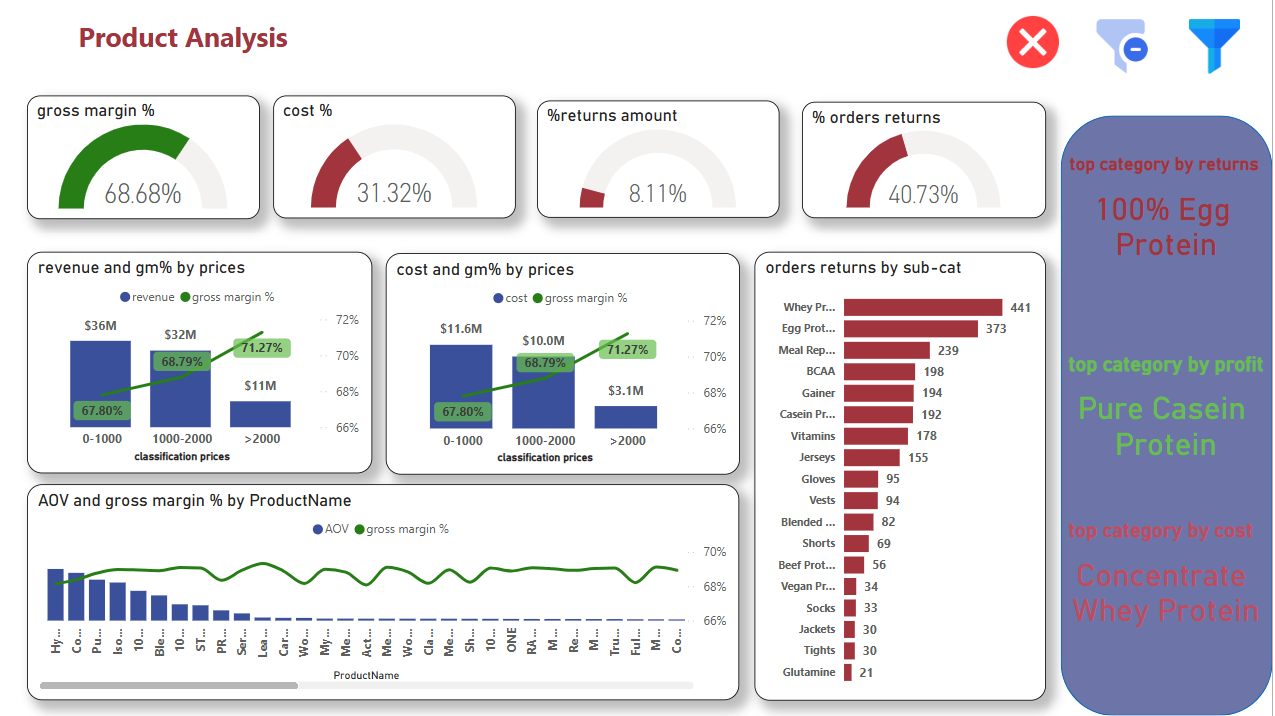

The dashboard page shown, as its layout file describes it:
{"tool":"powerbi","page":{"name":"product analysis","canvas":[1280,720],"ordinal":4},"visuals":[{"type":"gauge","fields":{"Y":["calculations.gross margin %"]},"box":[39.9,102.1,231.6,123.3],"z":0},{"type":"gauge","fields":{"Y":["calculations.cost %"]},"box":[285.2,102.1,241.6,122],"z":1000},{"type":"gauge","fields":{"Y":["returns calculations.% orders returns"]},"box":[812,108.3,242.8,115.8],"z":2000},{"type":"gauge","fields":{"Y":["returns calculations.%returns amount"]},"box":[548,107.5,241.6,117.1],"z":3000},{"type":"shape","box":[1069.4,121.6,210.9,597.9],"z":4000},{"type":"lineStackedColumnComboChart","title":"revenue and gm% by  prices","fields":{"Category":["sales details.classification prices"],"Y":["calculations.revenue"],"Y2":["calculations.gross margin %"]},"box":[39.9,257.8,343.7,220.4],"z":5000},{"type":"lineStackedColumnComboChart","title":"cost and gm% by  prices","fields":{"Category":["sales details.classification prices"],"Y2":["calculations.gross margin %"],"Y":["calculations.cost"]},"box":[397.3,259,352.4,220.4],"z":6000},{"type":"barChart","title":"orders returns by  sub-cat","fields":{"Y":["returns calculations.# orders returns"],"Category":["product.SubcategoryName"]},"box":[764.7,257.8,290.2,447.1],"z":7000},{"type":"lineStackedColumnComboChart","fields":{"Category":["product.ProductName"],"Y":["calculations.AOV"],"Y2":["calculations.gross margin %"]},"box":[39.9,489.4,709.9,215.5],"z":8000},{"type":"card","title":"top category by returns","fields":{"Values":["Min(product.ProductName)"]},"box":[1073.1,158.8,203.5,120.3],"z":12000},{"type":"card","title":"top category by profit","fields":{"Values":["Min(product.ProductName)"]},"box":[1072.8,357.1,204.5,120],"z":13000},{"type":"card","title":"top category by cost","fields":{"Values":["Min(product.ProductName)"]},"box":[1072.8,523.1,204.5,120],"z":14000},{"type":"image","box":[1189.7,21.1,67,64.5],"z":15000},{"type":"image","box":[1081.8,12.4,94.3,81.9],"z":16000},{"type":"image","title":"x icone","box":[1011.1,12.4,62,73.2],"z":17000},{"type":"textbox","box":[85.6,19.8,299,58.3],"z":18000},{"type":"actionButton","box":[0,1.2,49.8,39.9],"z":19000}]}

Visuals, with their boxes in screenshot pixels (x1, y1, x2, y2), scaled from the page's 1280x720 canvas onto the 1275x716 screenshot:
gauge - calculations.gross margin %: 40:102:270:224
gauge - calculations.cost %: 284:102:525:223
gauge - returns calculations.% orders returns: 809:108:1051:223
gauge - returns calculations.%returns amount: 546:107:787:223
shape: 1065:121:1274:715
"revenue and gm% by  prices" lineStackedColumnComboChart: 40:256:382:476
"cost and gm% by  prices" lineStackedColumnComboChart: 396:258:747:477
"orders returns by  sub-cat" barChart: 762:256:1051:701
lineStackedColumnComboChart - product.ProductName x calculations.AOV: 40:487:747:701
"top category by returns" card: 1069:158:1272:278
"top category by profit" card: 1069:355:1272:474
"top category by cost" card: 1069:520:1272:640
image: 1185:21:1252:85
image: 1078:12:1172:94
"x icone" image: 1007:12:1069:85
textbox: 85:20:383:78
actionButton: 0:1:50:41
